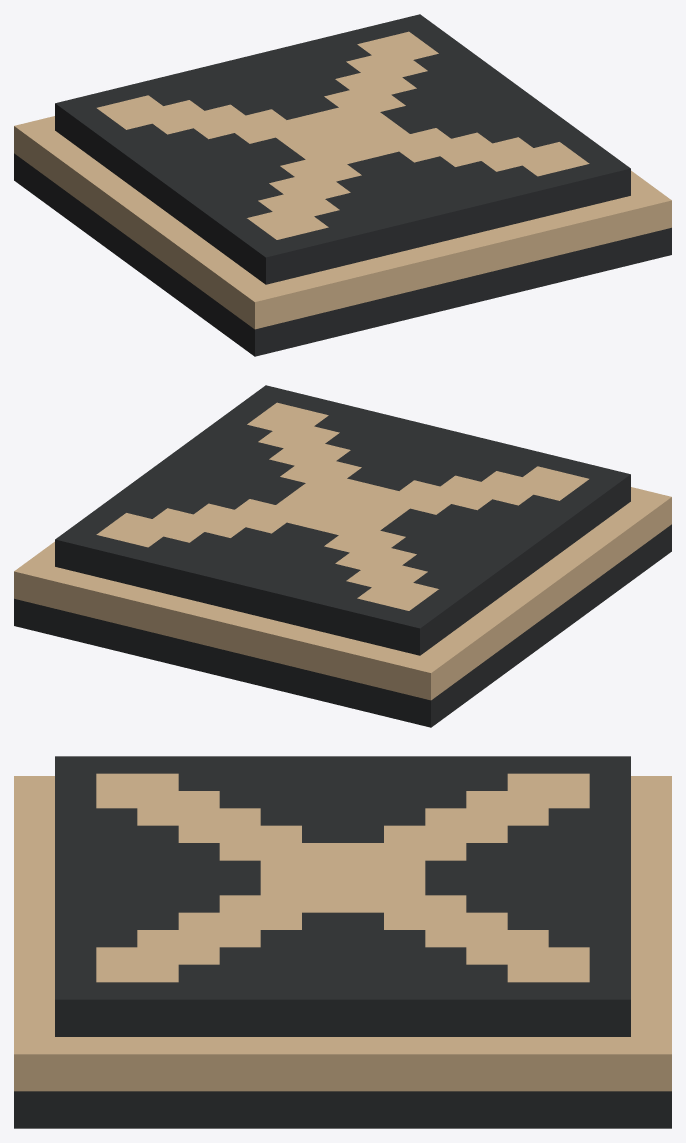
The model's file is x-v3-black-tan.gltf.
3 renders of one model, top to bottom at view 1: azimuth 30°, elevation 25°; view 2: azimuth 150°, elevation 25°; view 3: azimuth 270°, elevation 25°, orthographic. The views are drawn at different scales.
Visible parts, largest first — view 1: Untitled; view 2: Untitled; view 3: Untitled.
Part boxes in pixels (bbox=[...]): Untitled: bbox=[14, 14, 671, 356]; Untitled: bbox=[14, 385, 671, 727]; Untitled: bbox=[14, 756, 671, 1128].
Size of the model in its own units: 1.6 by 0.3 by 1.6.
Materials: 1 (1 with a texture image).
